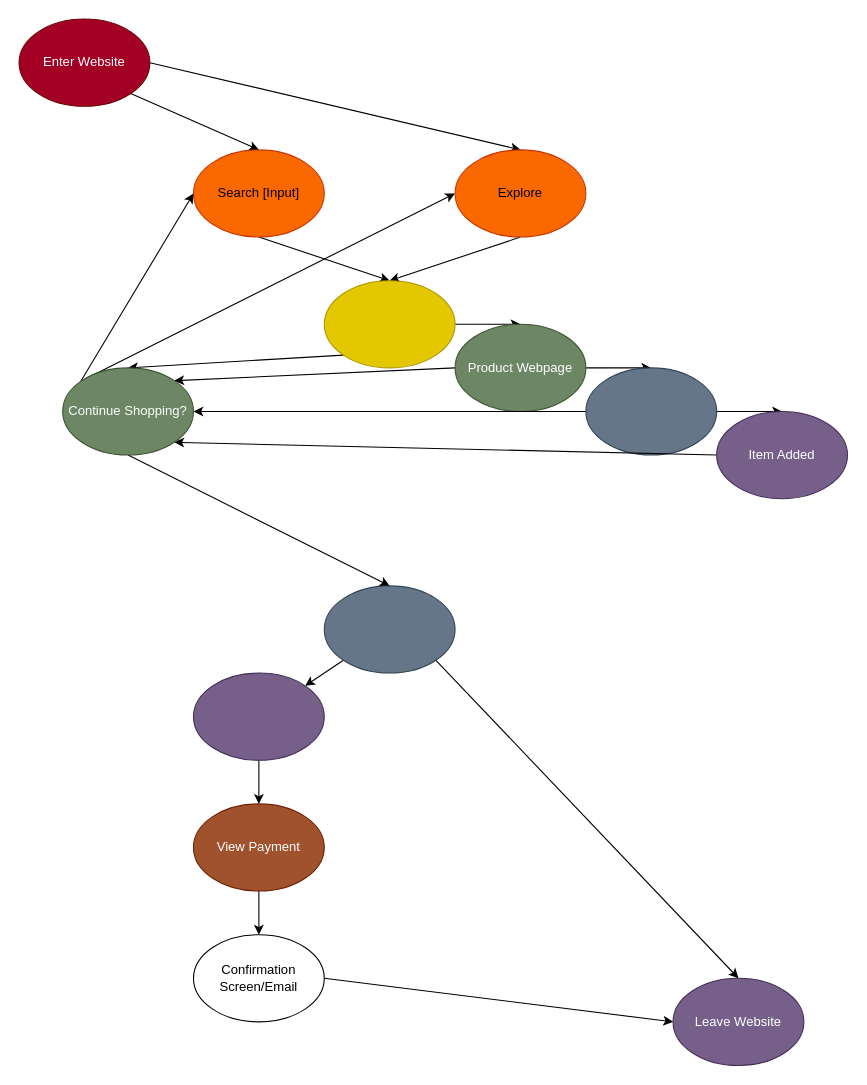
Image size: 867x1085. Some labels were removed from this diagram. The shapes that lost their labels are listed below. From the top down, each one's centre as x and y in pixels, then its label:
At point 389,324: "Specific Product".
At point 651,411: "Add to Cart?".
At point 389,629: "Checkout?".
At point 258,716: "View Cart".
